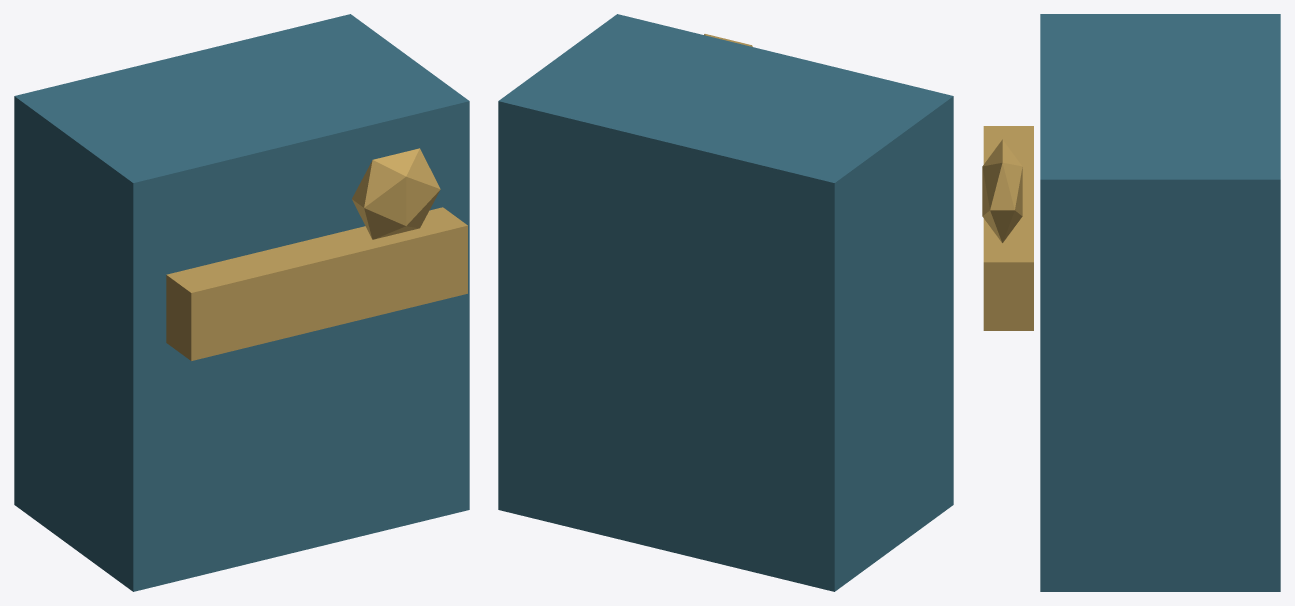
File: merchant_outfit.glb
The picture shows the model from 3 angles, left to right: view 1: azimuth 30°, elevation 25°; view 2: azimuth 150°, elevation 25°; view 3: azimuth 270°, elevation 25°; orthographic projection.
Parts seen in each view (by area): view 1: outfit_torso, outfit_trim, outfit_badge; view 2: outfit_torso; view 3: outfit_torso, outfit_trim, outfit_badge.
Part boxes in pixels (box(x1,y1,x2,y2)): outfit_torso: box(14, 14, 469, 591); outfit_trim: box(166, 207, 467, 360); outfit_badge: box(352, 148, 440, 239); outfit_torso: box(498, 14, 953, 591); outfit_torso: box(1040, 14, 1280, 591); outfit_trim: box(983, 126, 1033, 330); outfit_badge: box(982, 139, 1022, 242).
Size of the model in its own units: 0.62 by 0.72 by 0.4718.
